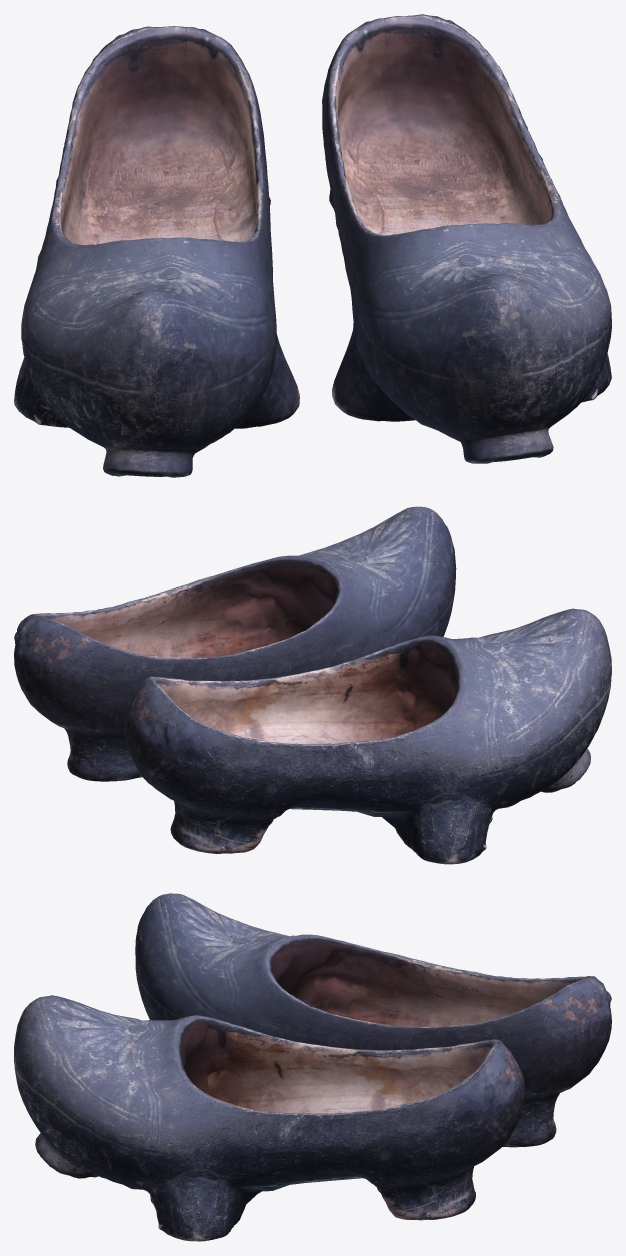
File: GalochaBlackLow.glb
The picture shows the model from 3 angles, top to bottom: view 1: azimuth 30°, elevation 25°; view 2: azimuth 150°, elevation 25°; view 3: azimuth 270°, elevation 25°; orthographic projection. The views are drawn at different scales.
Parts seen in each view (by area): view 1: Galocha1.001; view 2: Galocha1.001; view 3: Galocha1.001.
Part boxes in pixels (bbox=[...]): Galocha1.001: bbox=[14, 14, 611, 477]; Galocha1.001: bbox=[14, 506, 611, 864]; Galocha1.001: bbox=[14, 893, 611, 1241].
Bounding box in the file's own units: 0.4612 × 0.1857 × 0.5307.
Materials: 1 (1 with a texture image).
